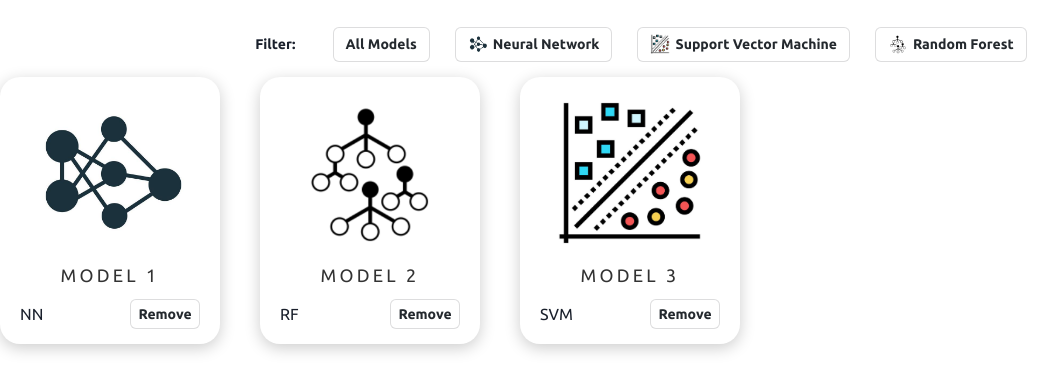
Test: UserSelectButton component › displays only Neural Network models when "Neural Network" button is clicked
Click the button "Neural Network".
click(534, 44)  # box [455, 27, 612, 62]
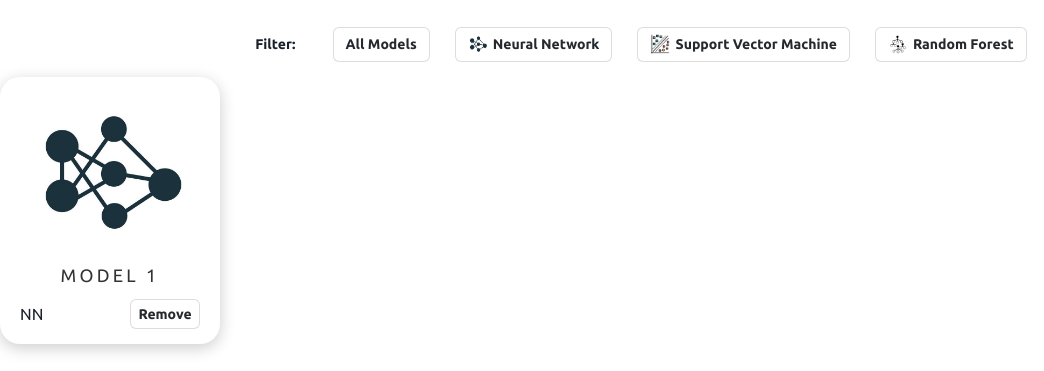
Result: the link "Model 2" is gone
Result: the link "Model 3" is gone
